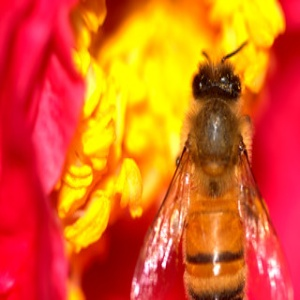bee: (130, 38, 297, 300)
